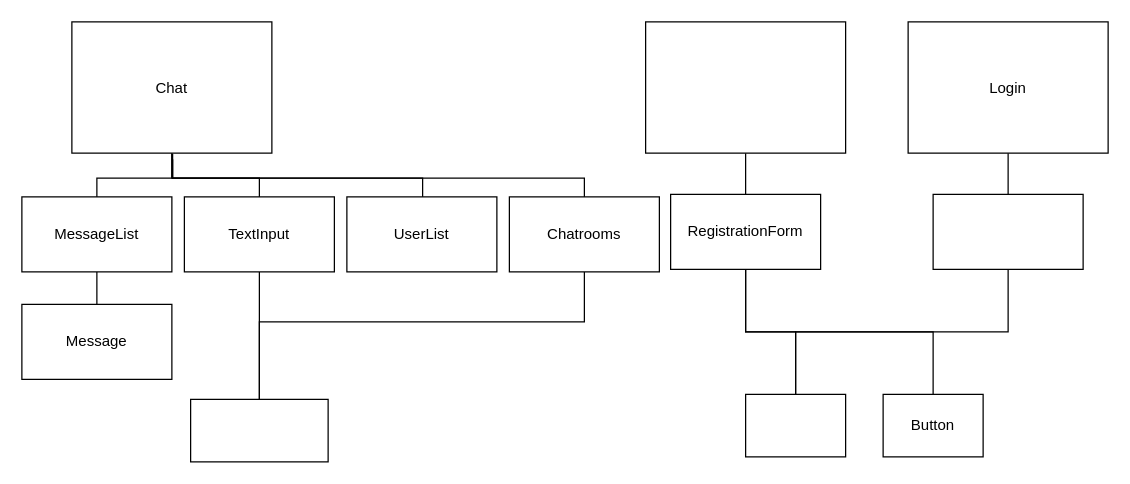
This 1130x484 diagram has some shape labels left out. The shapes that lost their labels are listed below. From the top down, each one's box as (x1, y1, x2, y2) in pixels, then its label:
(644, 21, 846, 153): Registration
(932, 193, 1083, 269): LoginForm
(189, 398, 328, 462): InputWithButton
(744, 393, 846, 457): Input
